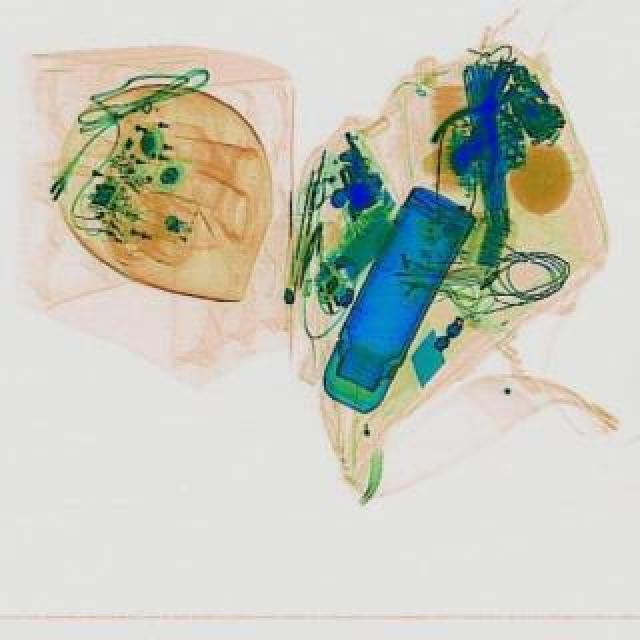wrench: (420, 62, 552, 200)
